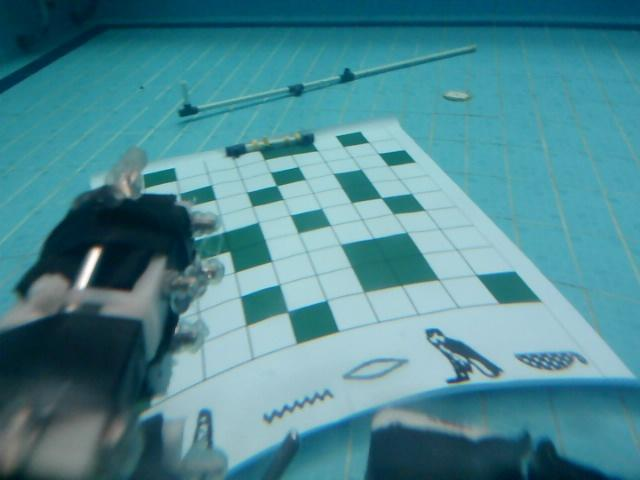Basket: (513, 342, 599, 371)
Mouth: (343, 353, 411, 384)
Owl: (419, 327, 507, 391)
Water: (257, 386, 334, 429)
